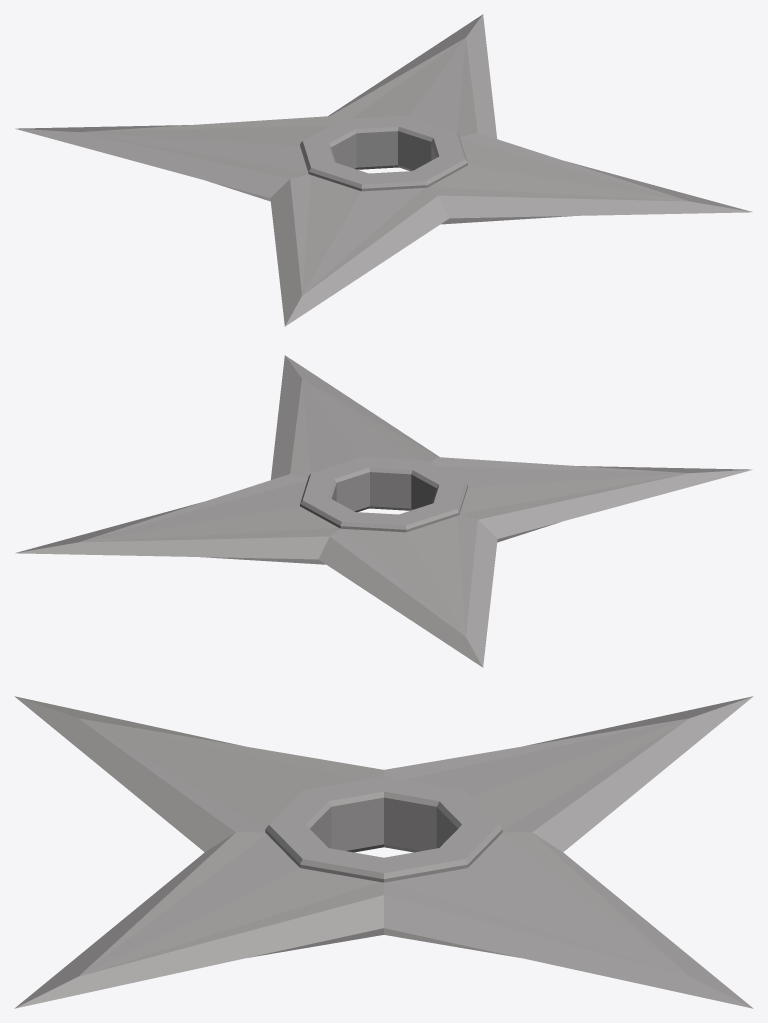
Rendered from Shuriken.fbx.
3 renders of one model, top to bottom at view 1: azimuth 30°, elevation 25°; view 2: azimuth 150°, elevation 25°; view 3: azimuth 270°, elevation 25°, orthographic. The views are drawn at different scales.
Parts seen in each view (by area): view 1: Shuriken; view 2: Shuriken; view 3: Shuriken.
Boxes of the visible parts, x1,y1,x2,y2 form: Shuriken: [15, 14, 752, 326]; Shuriken: [15, 355, 752, 667]; Shuriken: [14, 696, 753, 1008].
Size of the model in its own units: 14.13 by 1.17 by 14.13.
